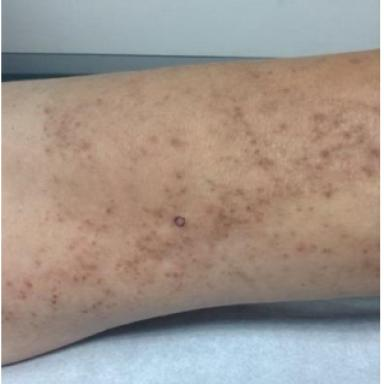Darier_s-Disease: (2, 68, 379, 323)
